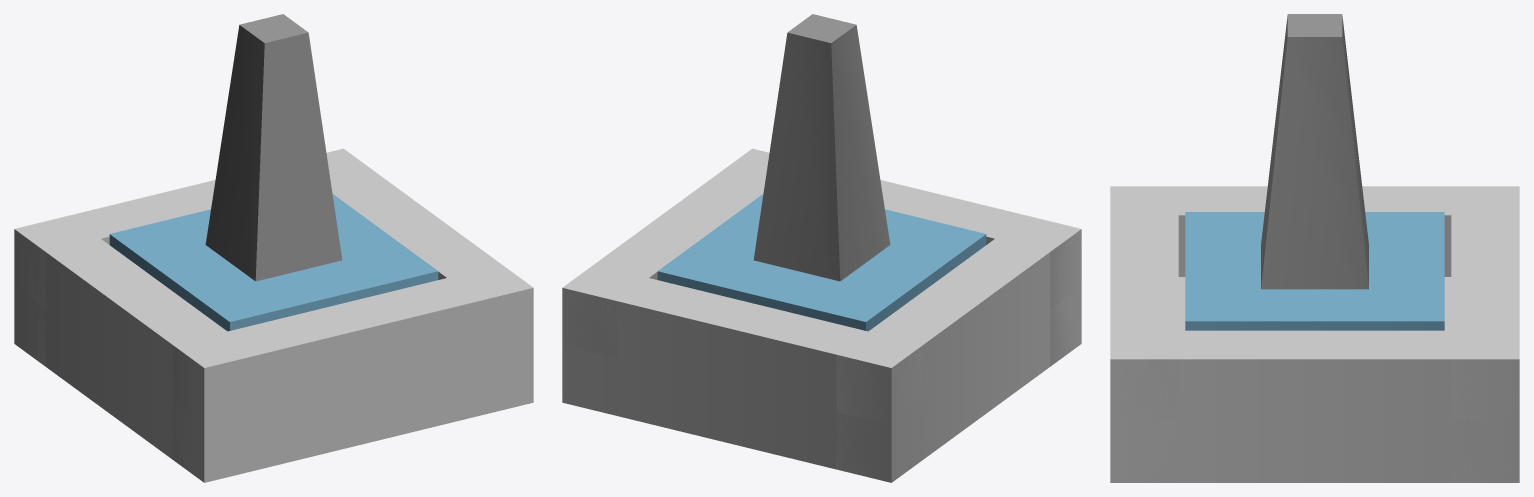
File: fountain.glb
3 views of the same model, side by side, from view 1: azimuth 30°, elevation 25°; view 2: azimuth 150°, elevation 25°; view 3: azimuth 270°, elevation 25° (orthographic). The views are drawn at different scales.
Visible parts, largest first — view 1: mesh0; view 2: mesh0; view 3: mesh0.
Part boxes in pixels (<box>): mesh0: <box>14,14,533,482</box>; mesh0: <box>562,14,1081,482</box>; mesh0: <box>1110,14,1519,482</box>.
Bounding box in the file's own units: 0.6 × 0.61 × 0.6.
